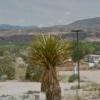Palm tree: (23, 27, 71, 100)
